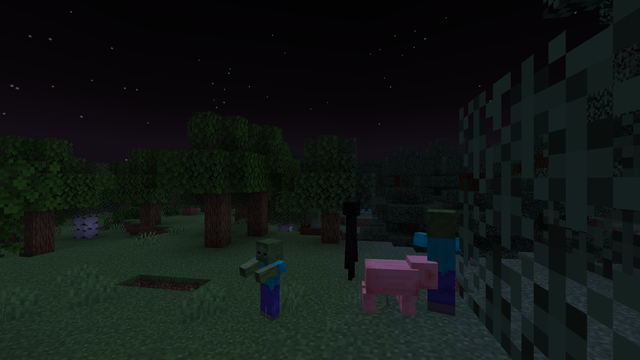cochons: (367, 255, 416, 319)
endermens: (342, 198, 359, 281)
zombies: (422, 211, 462, 319), (254, 239, 283, 322)
